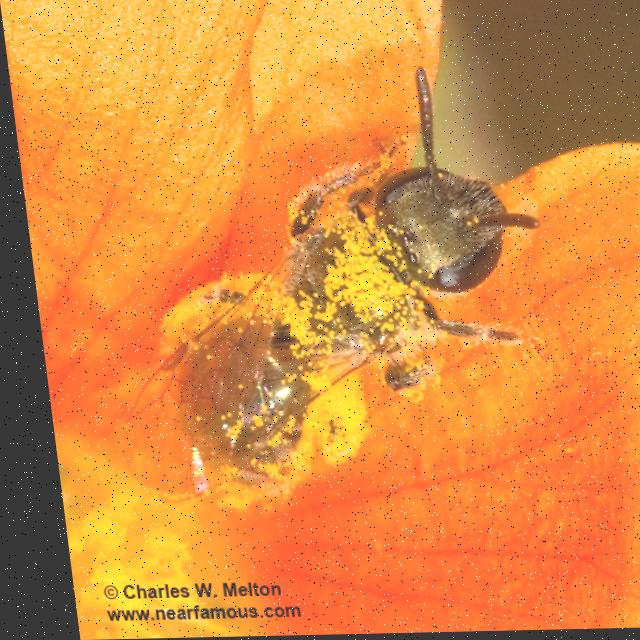Lasioglossum: (62, 61, 574, 520)
